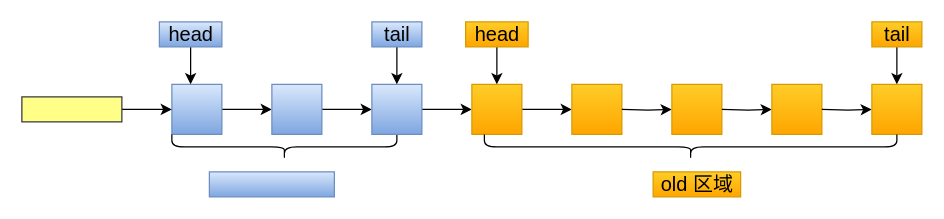
Some shapes in this 944 by 219 pixel diagram are drawn without their labels. The shapes that lost their labels are listed below. From the top down, each one's centre as x and y in pixels, then its label:
At (x=71, y=109): "LRU 链表".
At (x=271, y=184): "young 区域".
